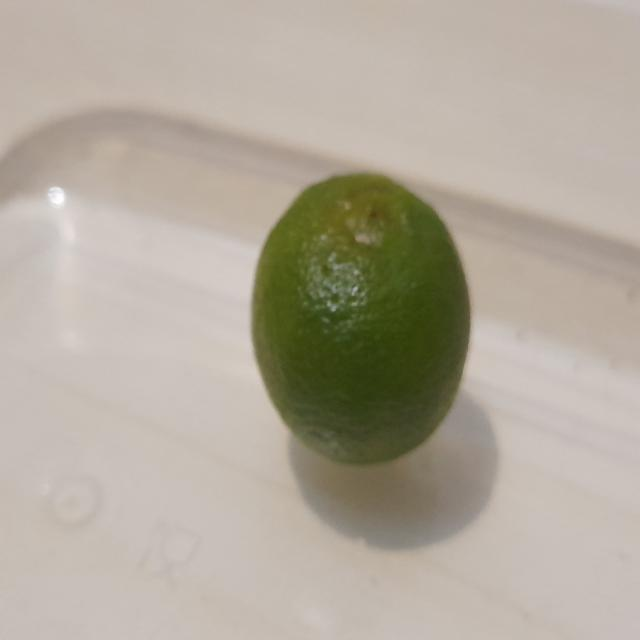heathy: (243, 164, 474, 475)
